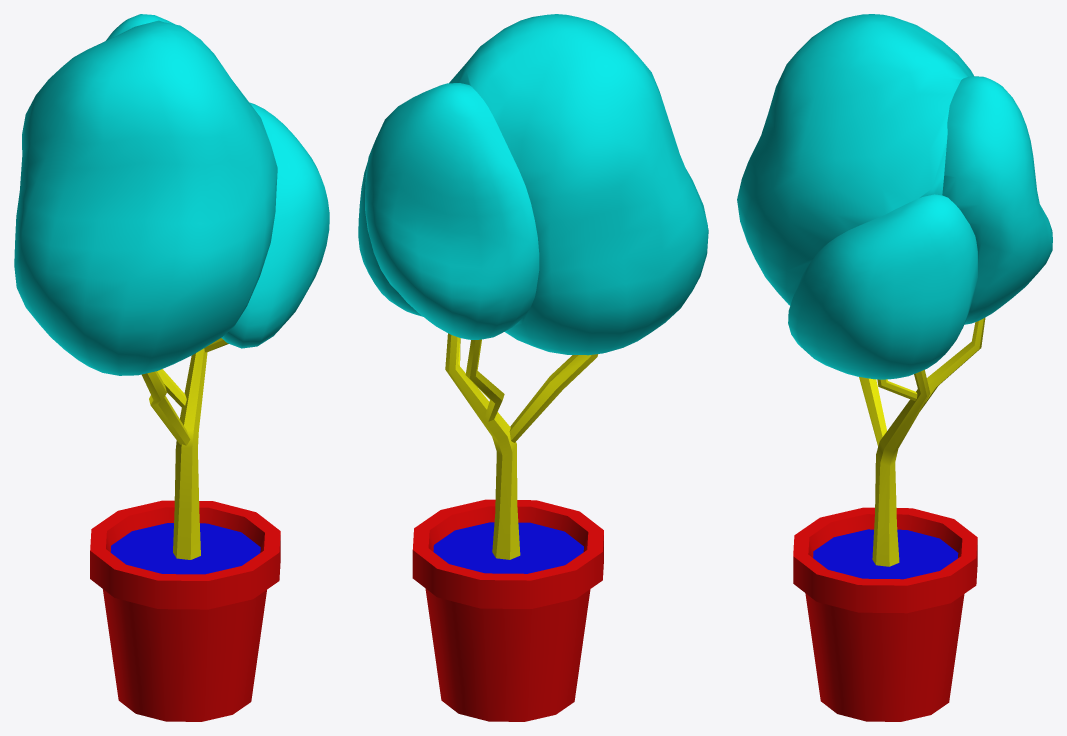
Rendered from Ficus.fbx.
3 views of the same model, side by side, from view 1: azimuth 30°, elevation 25°; view 2: azimuth 150°, elevation 25°; view 3: azimuth 270°, elevation 25° (orthographic). The views are drawn at different scales.
Parts seen in each view (by area): view 1: Ficus; view 2: Ficus; view 3: Ficus.
Boxes of the visible parts, <box> form: Ficus: <box>14,14,329,721</box>; Ficus: <box>358,14,708,721</box>; Ficus: <box>737,14,1052,721</box>.
Bounding box in the file's own units: 114 × 239 × 105.
